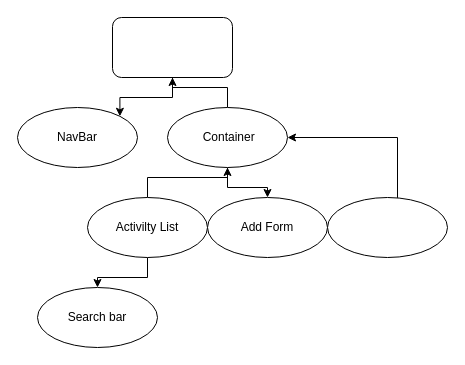
The diagram is 465 pixels wide and 365 high, and some of its shapes have lost their labels. Each missing label, with the centre of its shape:
App: (172,47)
Planner: (387,227)
